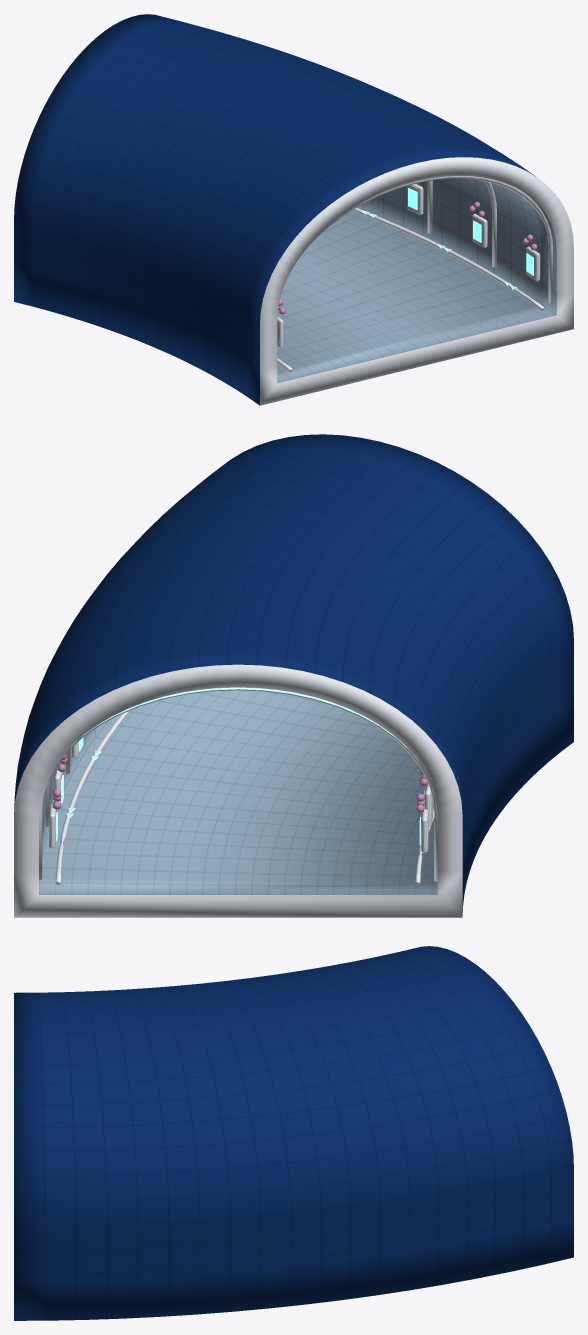
The model's file is curve_left_30_lod1.glb.
The picture shows the model from 3 angles, top to bottom: view 1: azimuth 30°, elevation 25°; view 2: azimuth 150°, elevation 25°; view 3: azimuth 270°, elevation 25°; orthographic projection. The views are drawn at different scales.
Parts seen in each view (by area): view 1: TunnelGeometry.001; view 2: TunnelGeometry.001; view 3: TunnelGeometry.001.
Boxes of the visible parts, box(x1,y1,x2,y2) form: TunnelGeometry.001: box(14, 14, 573, 405); TunnelGeometry.001: box(14, 434, 573, 917); TunnelGeometry.001: box(14, 946, 573, 1320).
Bounding box in the file's own units: 19.1 × 9.52 × 21.83.
Materials: 5 (2 with a texture image).
